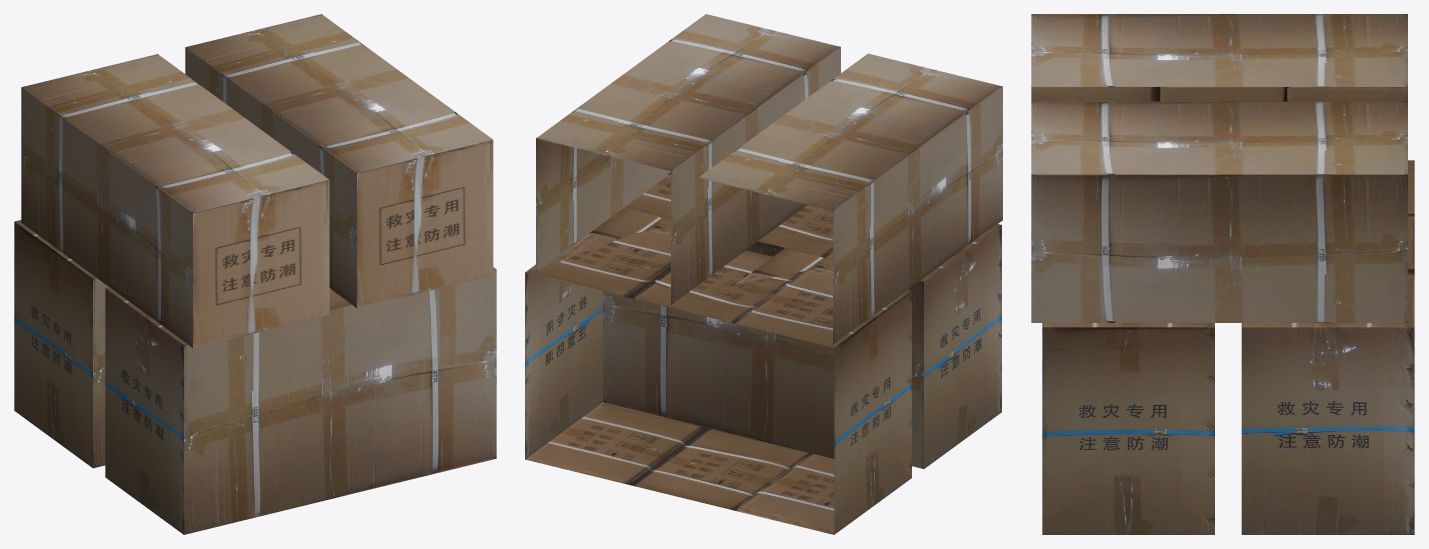
The model's file is fanghanfu.FBX.
The picture shows the model from 3 angles, left to right: view 1: azimuth 30°, elevation 25°; view 2: azimuth 150°, elevation 25°; view 3: azimuth 270°, elevation 25°; orthographic projection. The views are drawn at different scales.
Visible parts, largest first — view 1: 对象43; view 2: 对象43; view 3: 对象43.
Part boxes in pixels (x1,y1,x2,y2): 对象43: (14, 14, 496, 534); 对象43: (525, 14, 1002, 534); 对象43: (1031, 14, 1414, 534).
Bounding box in the file's own units: 0.7862 × 0.7609 × 0.7802.
